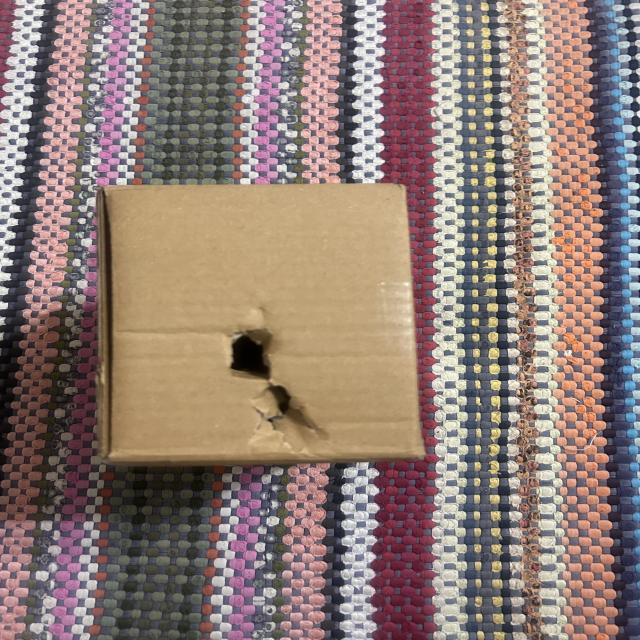damaged: (90, 178, 440, 468), (218, 297, 334, 454)
